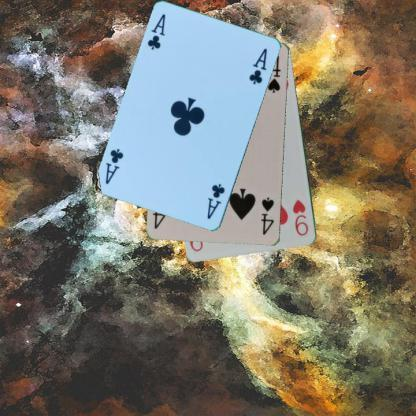4s: (258, 194, 276, 236)
9h: (290, 197, 310, 238)
Ac: (145, 11, 167, 52), (204, 181, 226, 221)
